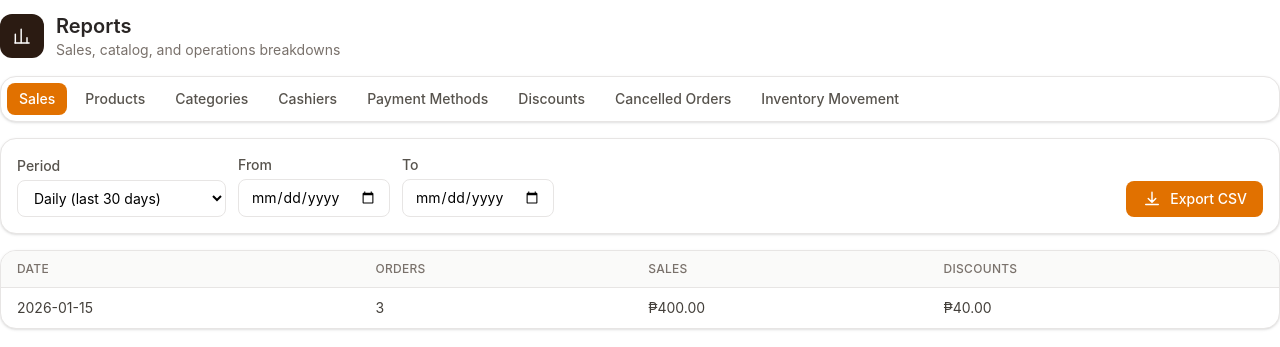
Test: ReportsPage — tab switching › switches to the products tab and loads that report
Expected: the text "2026-01-15" is shown, [1, 288, 359, 328]
Click the button "Products": (115, 99) [73, 83, 157, 115]
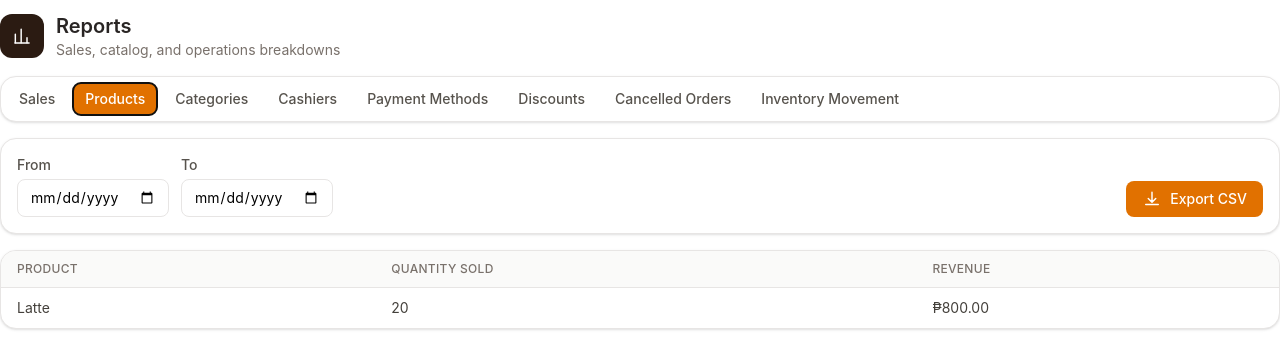
Expected: the text "Latte" is shown, [1, 288, 375, 328]
Expected: the dropdown labelled "Sales report period" is gone
